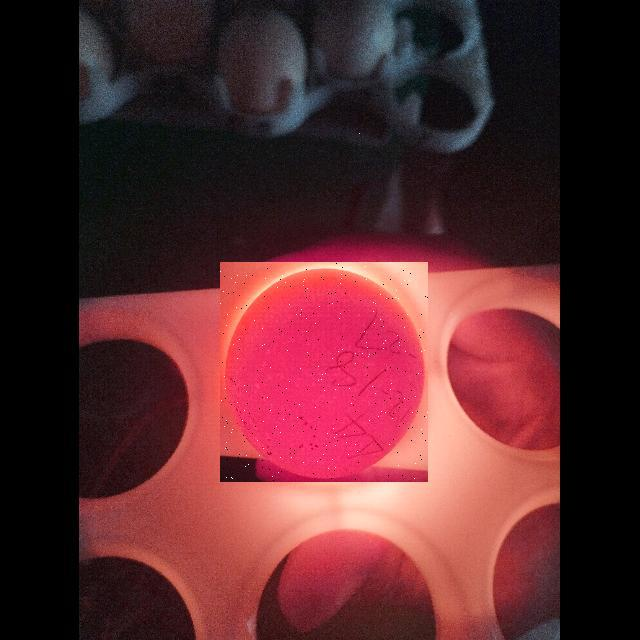Infertile: (220, 262, 428, 482)
